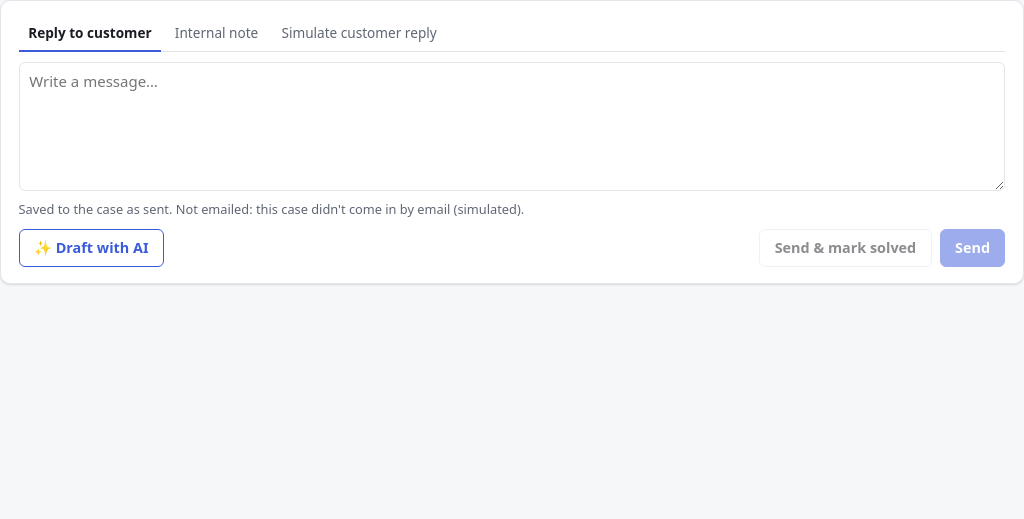
Test: ReplyComposer: Draft with AI › fills the reply box with the draft and explains it
Click the button "✨ Draft with AI" at (91, 248), box [19,229,164,267]
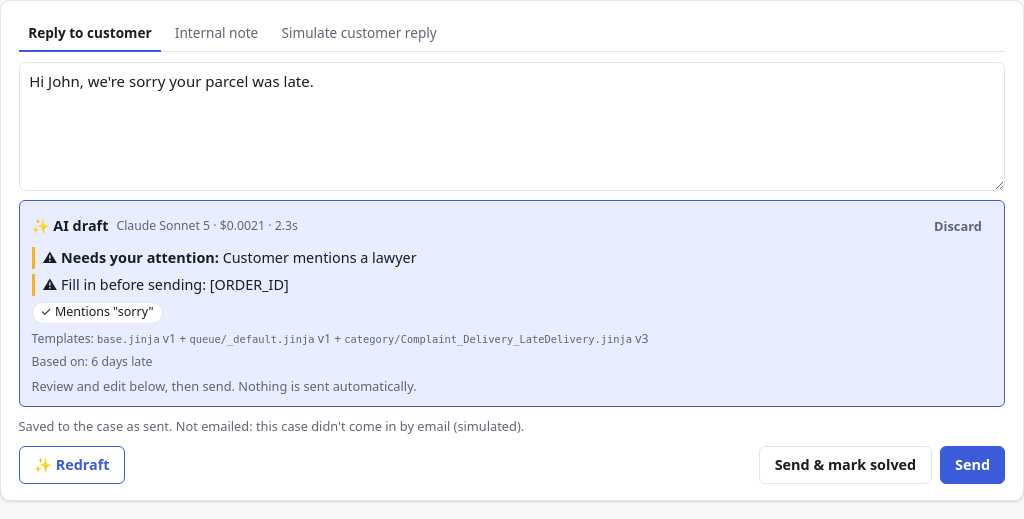
Expected: the text box named "message" holds "Hi John, we're sorry your parcel was late.", [19,62,1005,191]
Expected: the text "Claude Sonnet 5 · $0.0021 · 2.3s" is shown, [116,217,298,235]
Expected: the text "category/Complaint_Delivery_LateDelivery.jinja" is shown, [344,332,632,344]
